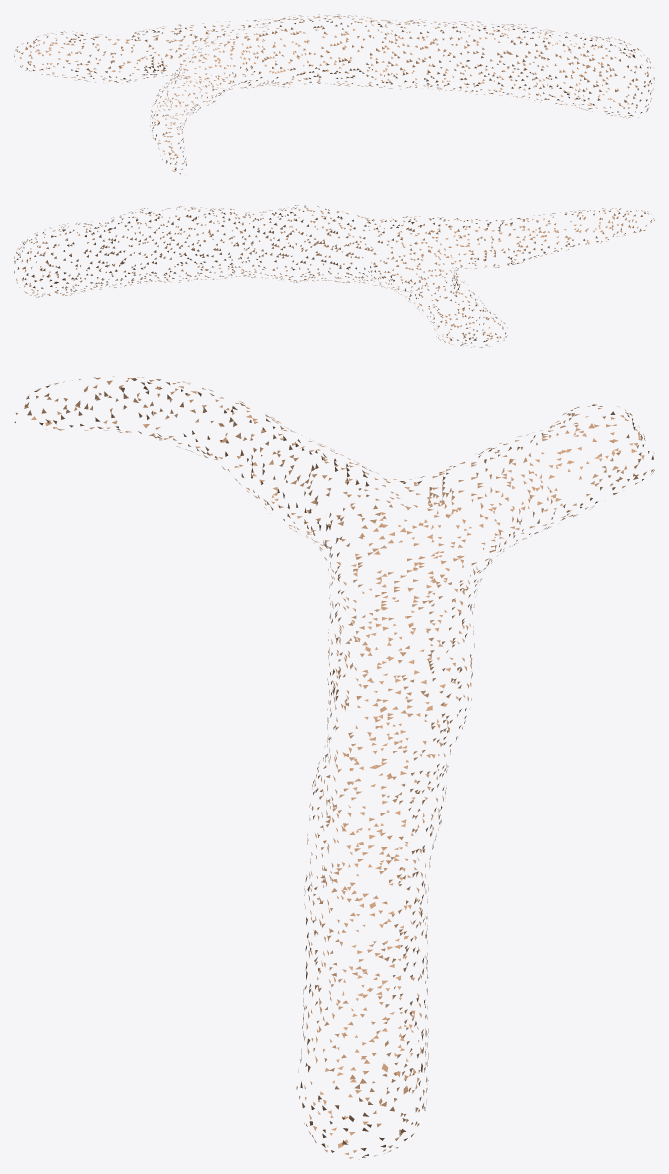
Rendered from morph_005.glb.
3 views of the same model, one above another, from view 1: azimuth 30°, elevation 25°; view 2: azimuth 150°, elevation 25°; view 3: azimuth 270°, elevation 25° (orthographic). The views are drawn at different scales.
Bounding box in the file's own units: 140 × 41.28 × 74.79.
